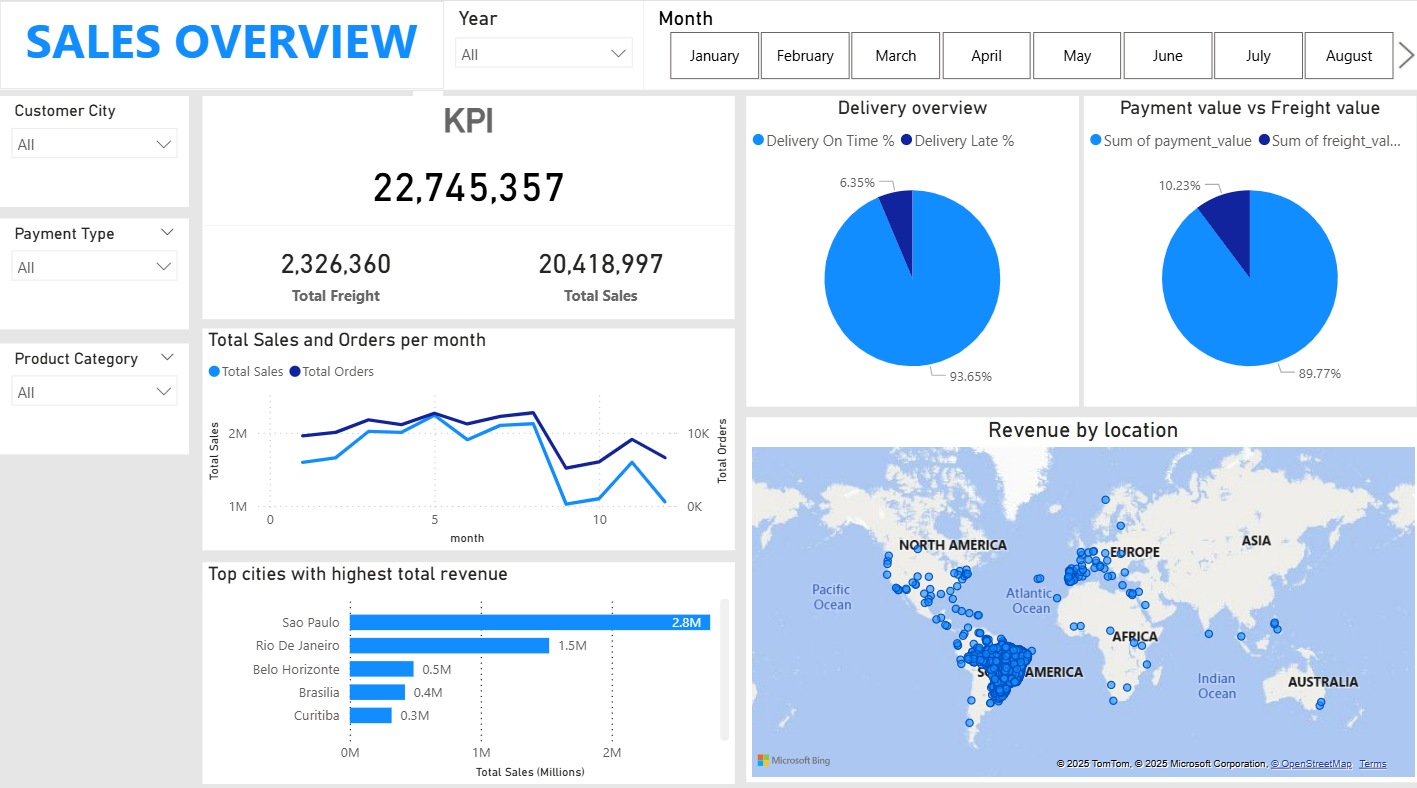

The dashboard page shown, as its layout file describes it:
{"tool":"powerbi","page":{"name":"Page 1","canvas":[1280,720],"ordinal":0},"visuals":[{"type":"slicer","fields":{"Values":["warehouse dim_dates.month_name"]},"box":[580.5,5,699.9,80],"z":0},{"type":"slicer","fields":{"Values":["warehouse dim_customers.customer_city"]},"box":[0,90,170,100],"z":0,"group":"g1"},{"type":"slicer","fields":{"Values":["warehouse dim_dates.year"]},"box":[400,5,180,80],"z":1000},{"type":"lineChart","title":"Total Sales and Orders per month","fields":{"Category":["warehouse dim_dates.month"],"Y":["warehouse fact_orders.Total Revenue"],"Y2":["warehouse fact_orders.Total Orders"]},"box":[183,300,480,200],"z":1000,"group":"g2"},{"type":"pieChart","title":"Delivery overview","fields":{"Y":["warehouse fact_orders.Delivery On Time %","warehouse fact_orders.Delivery Late %"]},"box":[672.5,90,300,280],"z":2000},{"type":"pieChart","title":"Payment value vs Freight value","fields":{"Y":["Sum(warehouse fact_orders.payment_value)","Sum(warehouse fact_orders.freight_value)"]},"box":[977.5,90,300,280],"z":3000},{"type":"slicer","fields":{"Values":["warehouse dim_products.product_category_name_english"]},"box":[0,313.6,170,100],"z":3000,"group":"g1"},{"type":"group","id":"g1","title":"Group 2","box":[0,90,170,323.6],"z":4000},{"type":"slicer","fields":{"Values":["warehouse dim_order_payments.payment_type"]},"box":[0,200.5,170,100],"z":4000,"group":"g1"},{"type":"card","fields":{"Values":["warehouse fact_orders.Total Freight"]},"box":[183,207,240.6,84.2],"z":5000,"group":"g3"},{"type":"map","title":"Revenue by location","fields":{"Category":["warehouse dim_geolocation.geolocation_city"]},"box":[672.5,380,607.5,328.8],"z":5000},{"type":"textbox","box":[0,5,400,80],"z":6000},{"type":"card","fields":{"Values":["warehouse fact_orders.Total Revenue"]},"box":[422.4,207,240.6,84.2],"z":6000,"group":"g3"},{"type":"barChart","title":"Top cities with highest total revenue","fields":{"Category":["warehouse dim_customers.customer_city"],"Y":["warehouse fact_orders.Total Revenue"]},"box":[183,510,480,200],"z":6000,"group":"g2"},{"type":"group","id":"g2","title":"Group 3","box":[183,90,480,620],"z":7000},{"type":"group","id":"g3","title":"Group 1","box":[183,90,480,200],"z":7000,"group":"g2"},{"type":"card","title":"KPI","fields":{"Values":["warehouse fact_orders.KPI Total Sales"]},"box":[183,90,480,117],"z":7000,"group":"g3"}]}

Visuals, with their boxes in screenshot pixels (x1, y1, x2, y2), scaled from the page's 1280x720 canvas onto the 1417x788 screenshot:
slicer - warehouse dim_dates.month_name: [x1=643, y1=5, x2=1416, y2=93]
slicer - warehouse dim_customers.customer_city: [x1=0, y1=99, x2=188, y2=208]
slicer - warehouse dim_dates.year: [x1=443, y1=5, x2=642, y2=93]
"Total Sales and Orders per month" lineChart: [x1=203, y1=328, x2=734, y2=547]
"Delivery overview" pieChart: [x1=744, y1=99, x2=1077, y2=405]
"Payment value vs Freight value" pieChart: [x1=1082, y1=99, x2=1414, y2=405]
slicer - warehouse dim_products.product_category_name_english: [x1=0, y1=343, x2=188, y2=453]
"Group 2" group: [x1=0, y1=99, x2=188, y2=453]
slicer - warehouse dim_order_payments.payment_type: [x1=0, y1=219, x2=188, y2=329]
card - warehouse fact_orders.Total Freight: [x1=203, y1=227, x2=469, y2=319]
"Revenue by location" map: [x1=744, y1=416, x2=1416, y2=776]
textbox: [x1=0, y1=5, x2=443, y2=93]
card - warehouse fact_orders.Total Revenue: [x1=468, y1=227, x2=734, y2=319]
"Top cities with highest total revenue" barChart: [x1=203, y1=558, x2=734, y2=777]
"Group 3" group: [x1=203, y1=99, x2=734, y2=777]
"Group 1" group: [x1=203, y1=99, x2=734, y2=317]
"KPI" card: [x1=203, y1=99, x2=734, y2=227]
